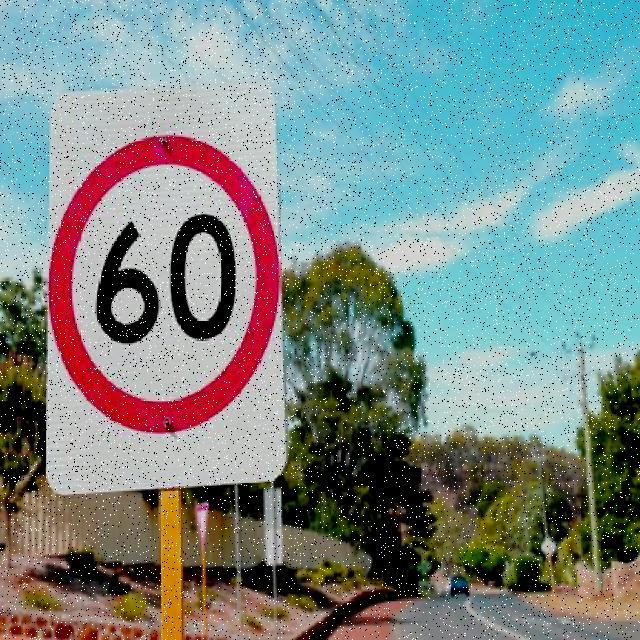Ograniczenie predkosci do 60: (41, 128, 282, 434)
